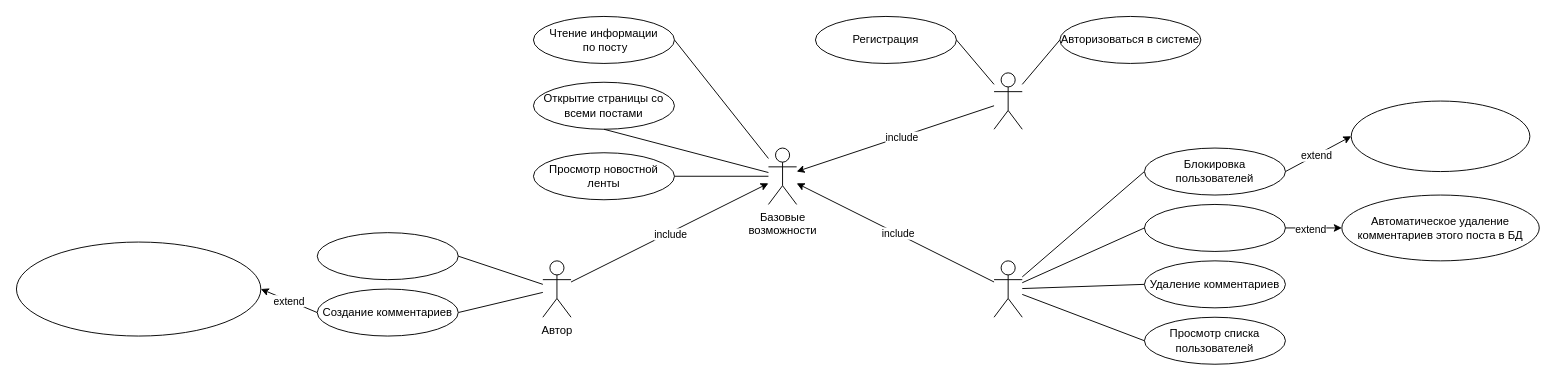
This 1556x381 diagram has some shape labels left out. The shapes that lost their labels are listed below. From the top down, each one's centre as x and y in pixels, then its label:
At (x=1007, y=100): "Гость".
At (x=1440, y=136): "При блокировке навсегда удаляются все посты пользователя".
At (x=1214, y=227): "Удаление постов".
At (x=387, y=256): "Редактирование и удаление поста".
At (x=138, y=288): "Под чужими постами или ответить на комментарий другого автора под своим постом".
At (x=1007, y=288): "Администратор".
